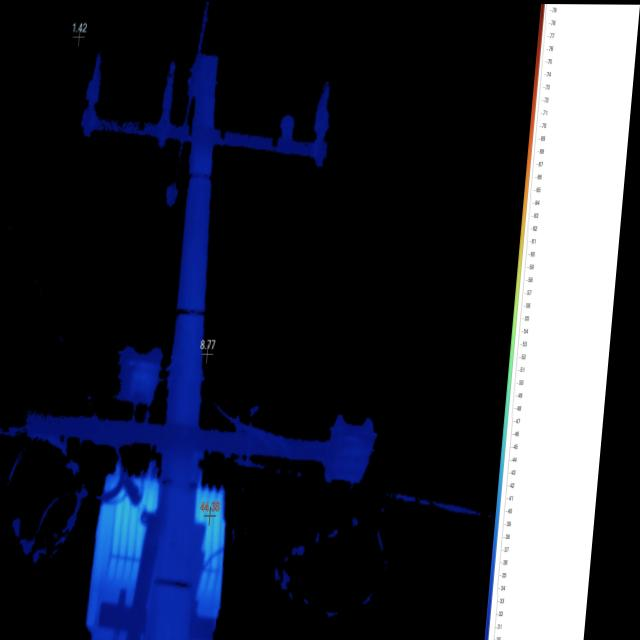Normal: (71, 453, 250, 611)
